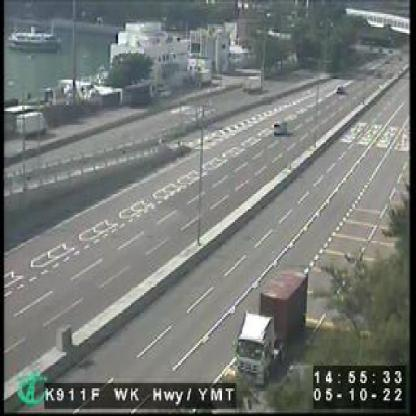Car: (270, 118, 286, 133)
Truck: (236, 269, 306, 383)
